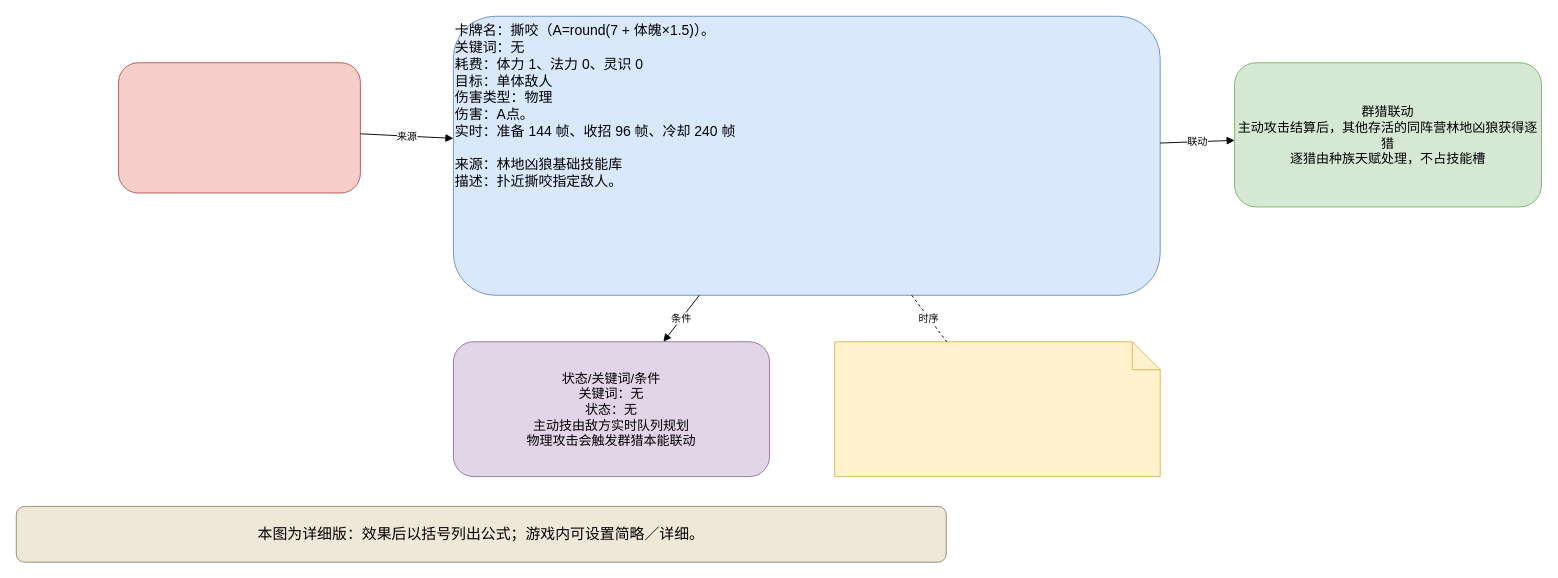
Some shapes in this 1558 by 578 pixel diagram are drawn without their labels. Here are the shapes that lost their labels. From the top down, the box of each, then its label:
(118, 62, 360, 193): 来源/前置 来源分类：妖兽技能 来源兽种：林地凶狼 基础技能库：林地凶狼 前置：无
(834, 341, 1160, 477): 时序与目标 目标类型：单体敌方 准备：144 帧 收招：96 帧 冷却：240 帧
